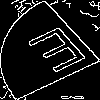E: (24, 25, 97, 82)
